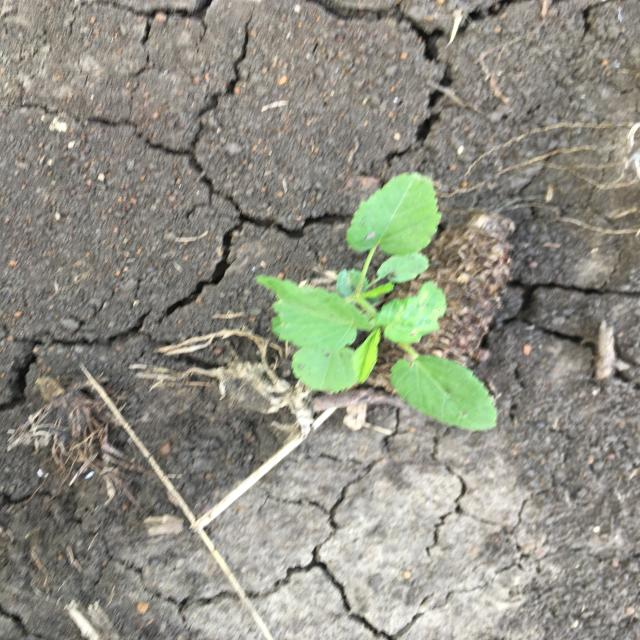PricklySida: (252, 170, 500, 433)
